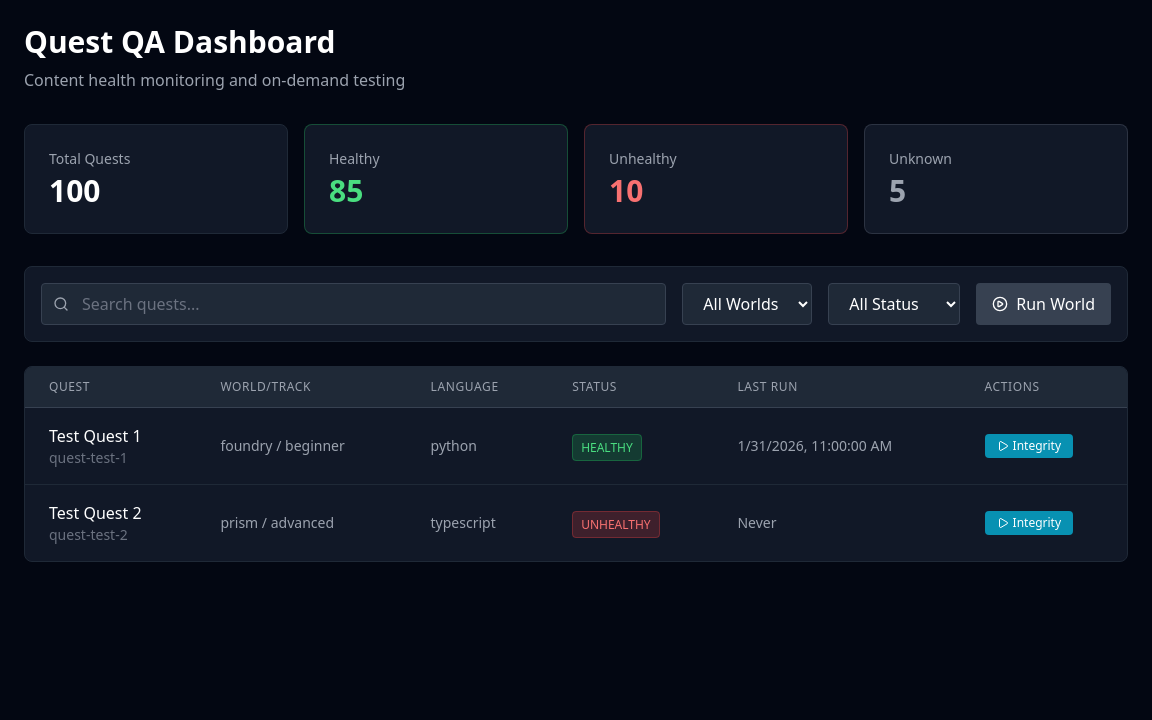
DevQA Integrity Flow › runs integrity check and shows results modal
This screenshot has width=1152, height=720.
Expected: the text "Test Quest 1" is shown, [49,425,142,447]
# Click "Integrity" button for first quest
Click the button "Integrity" in the row of "Test Quest 1".
click(1029, 446)  # box [985,434,1073,458]
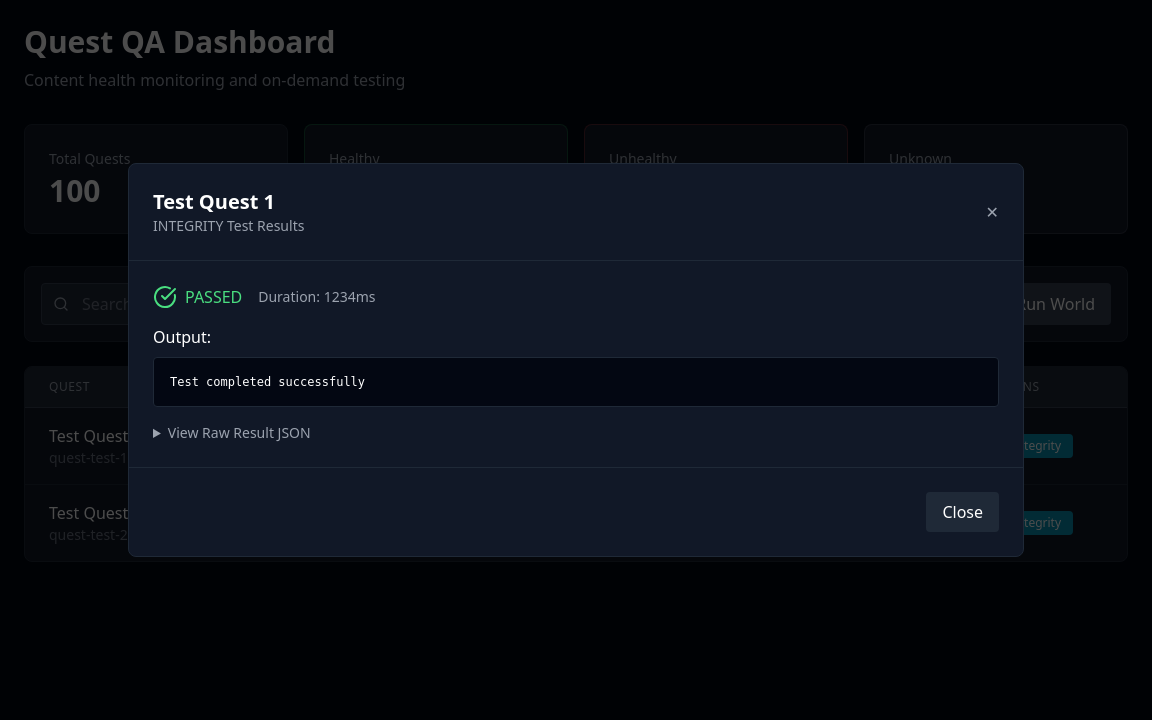
Expected: the text "PASSED" is shown, [185,285,242,309]
Expected: the text "INTEGRITY Test Results" is shown, [153,216,304,236]
Expected: the text "Duration: 1234ms" is shown, [258,287,376,307]
